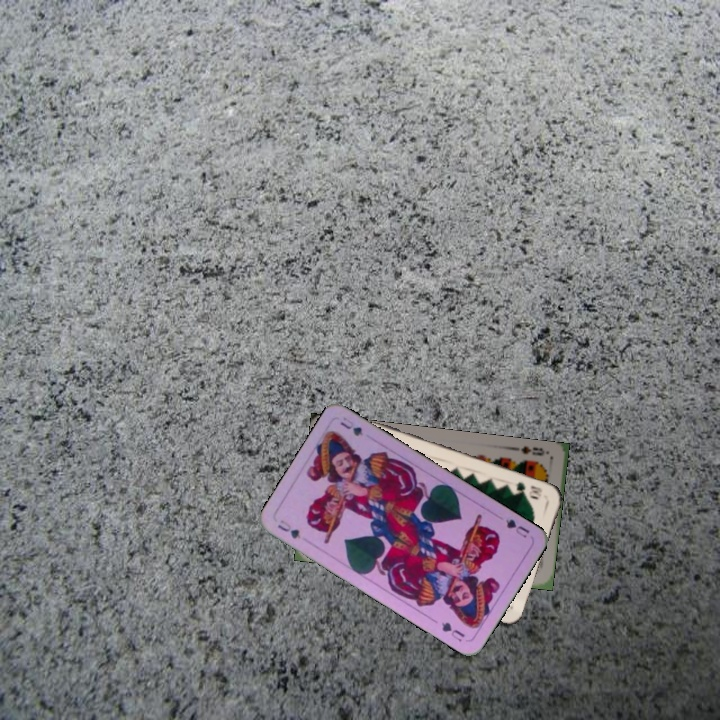G10: (511, 478, 545, 502)
GU: (501, 515, 532, 541), (273, 516, 303, 542)
S8: (517, 442, 547, 458)
